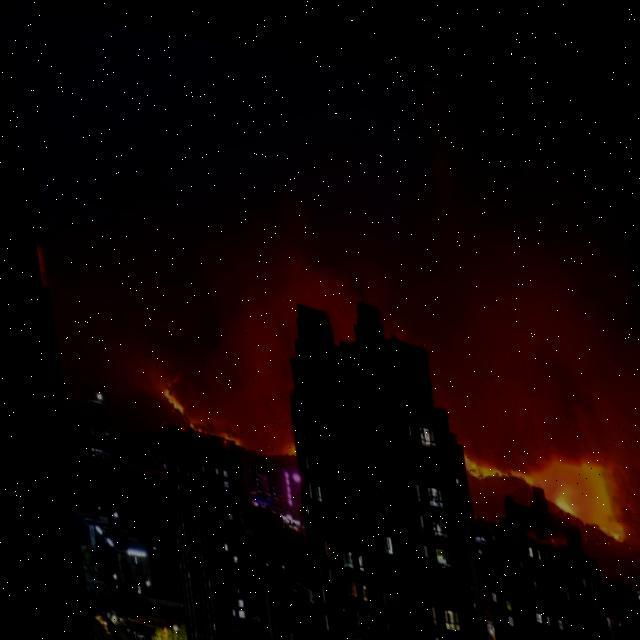Fire: (446, 414, 622, 528), (143, 374, 288, 450)
